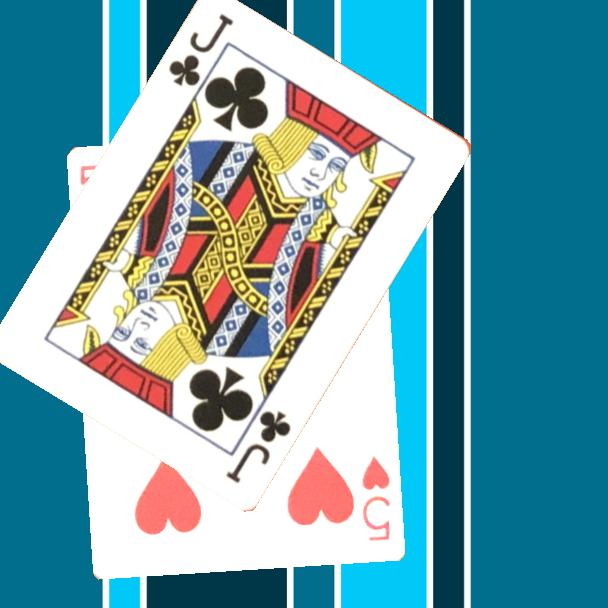c11: (164, 9, 237, 89), (222, 406, 294, 486)
h05: (359, 453, 394, 544)
